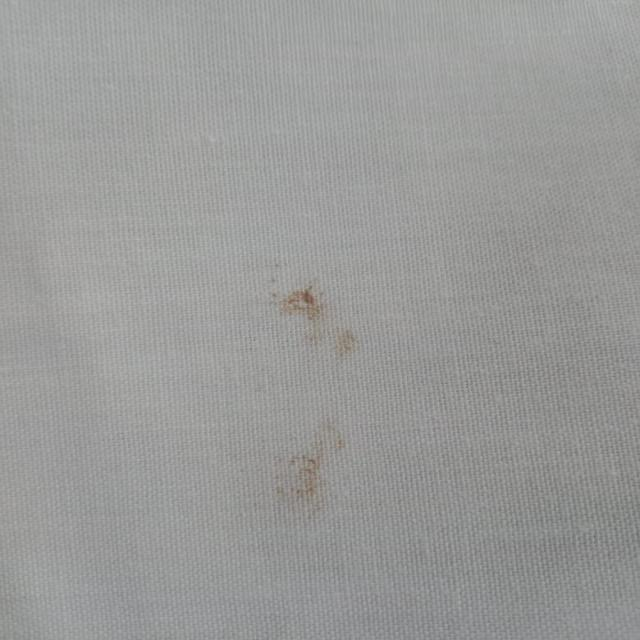stain: (253, 272, 379, 366), (260, 409, 364, 512)
